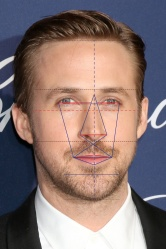Forehead: (30, 38, 136, 93)
